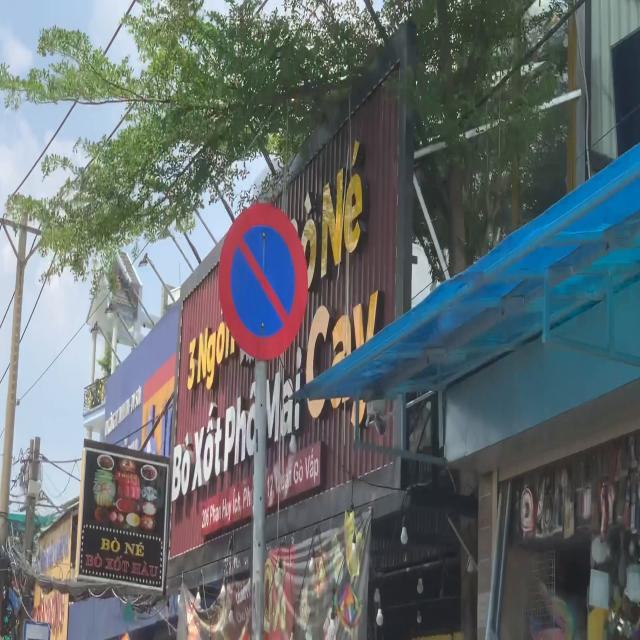Cam do: (218, 203, 309, 360)
